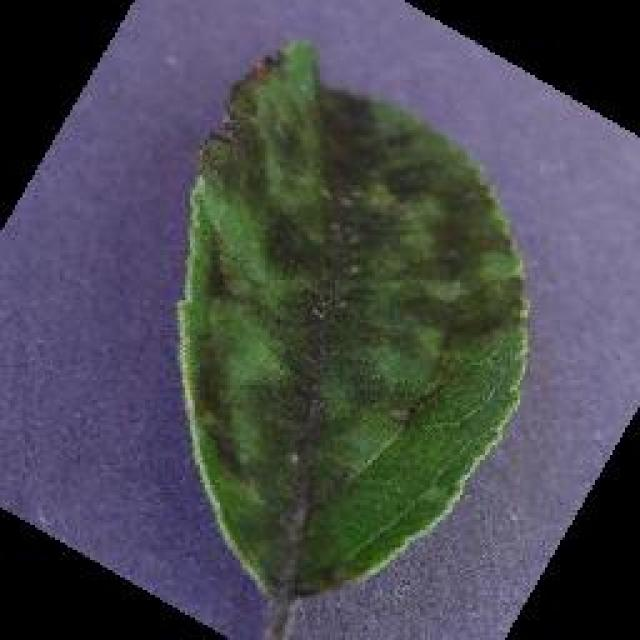apple scab disease: (172, 35, 530, 605)
